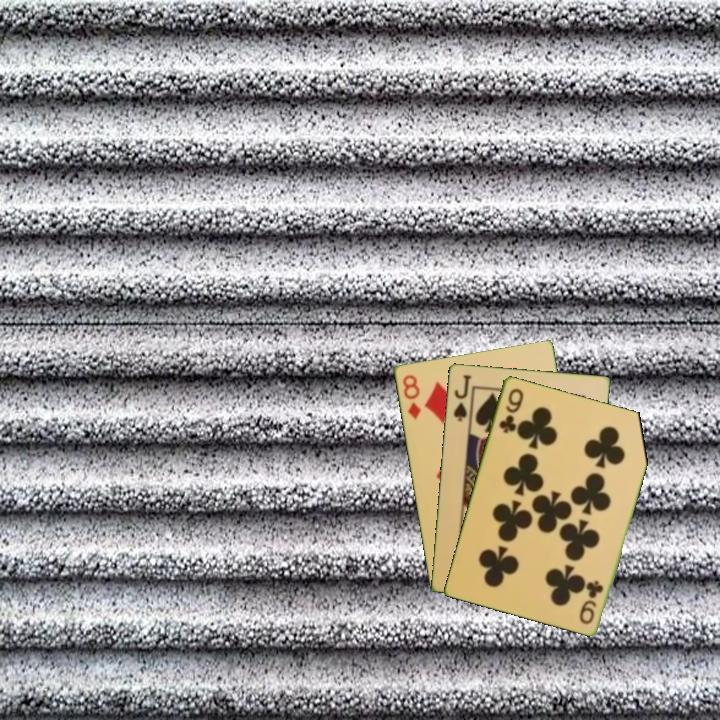8d: (399, 371, 424, 422)
9c: (495, 384, 526, 436), (576, 576, 606, 627)
Js: (450, 371, 474, 424)
